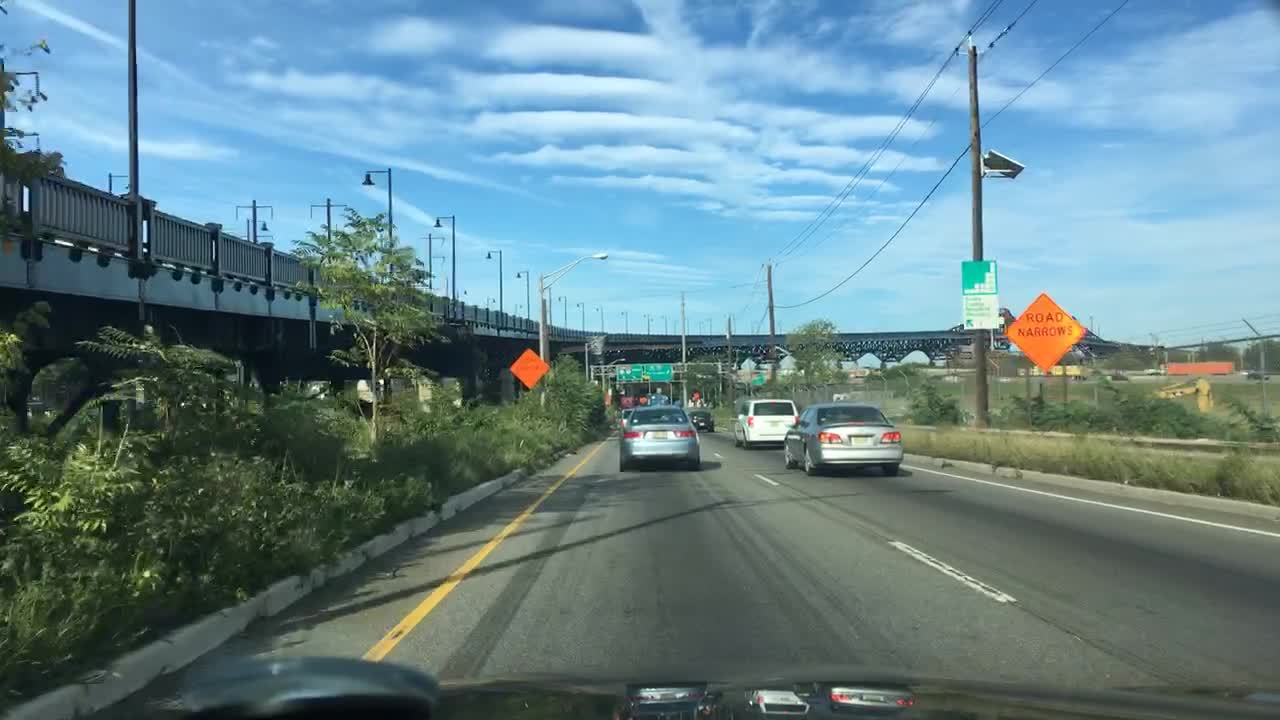car: (781, 404, 900, 474), (618, 406, 699, 470), (735, 398, 797, 447), (689, 410, 714, 432), (618, 407, 635, 428), (1240, 368, 1269, 379), (649, 391, 669, 405), (1144, 366, 1163, 374)
traffic sign: (1005, 293, 1086, 369), (961, 263, 999, 328), (511, 349, 548, 388), (645, 362, 676, 380), (616, 365, 642, 380), (741, 357, 757, 372), (749, 374, 764, 385)
